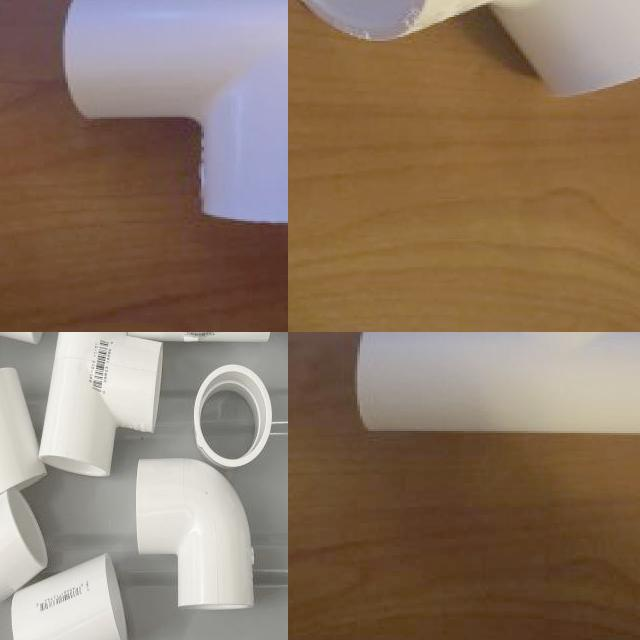L Joint: (134, 458, 257, 613), (0, 490, 49, 606)
T Joint: (354, 332, 640, 438), (38, 332, 164, 479)
